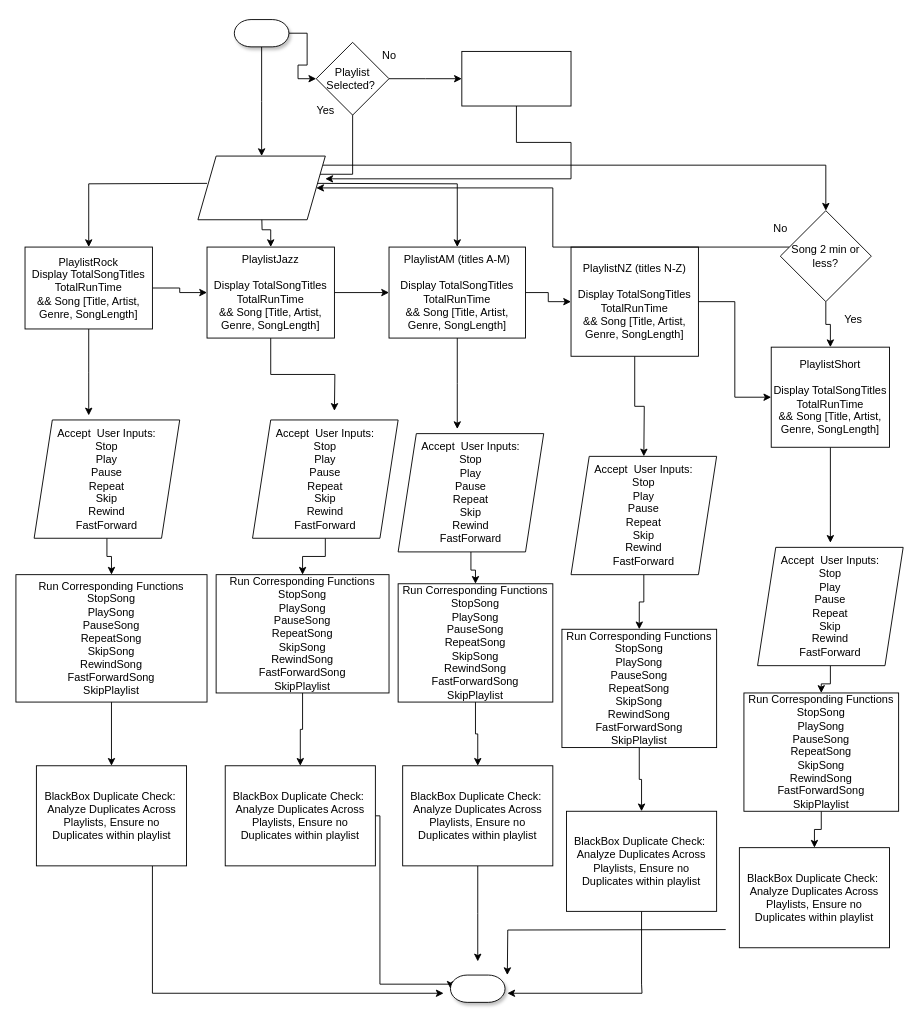
Some shapes in this 919 by 1025 pixel diagram are drawn without their labels. Here are the shapes that lost their labels. From the top down, the centre of each, then its label:
the point at 262,34: Start
the point at 516,78: Run RandomPlaylist && RandomizeAll Functions
the point at 261,187: Set total songs to 2000 Set MaxLength to 110 mins Set MinLength to 100 mins
the point at 478,990: End
